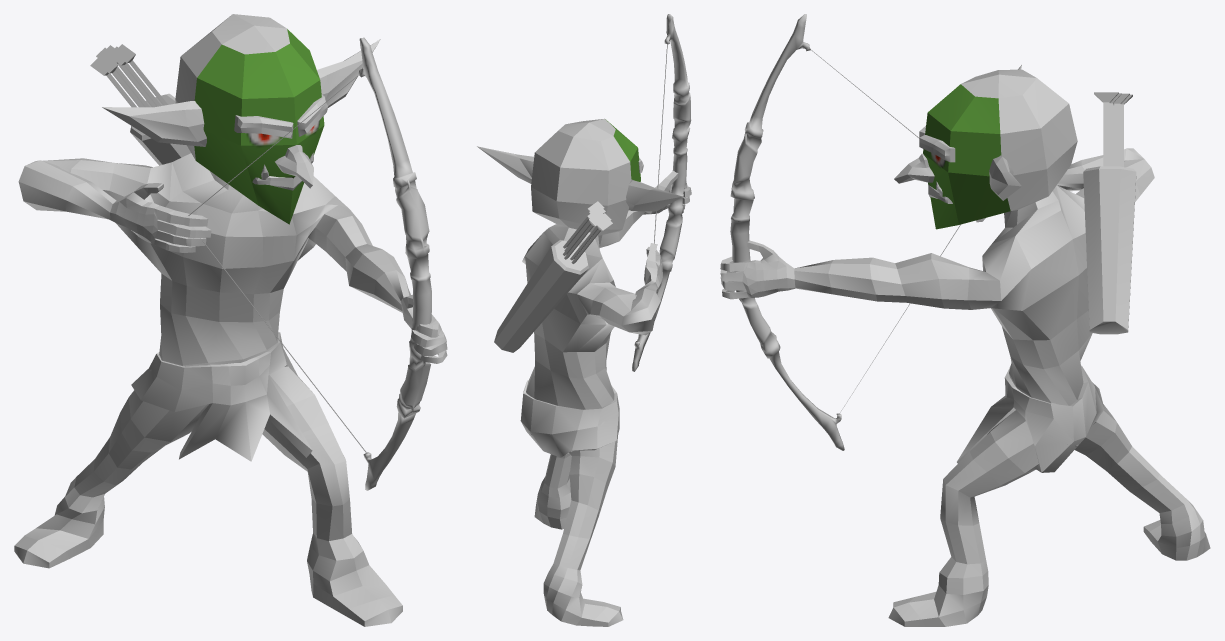
Rendered from GoblinArcher.FBX.
3 views of the same model, side by side, from view 1: azimuth 30°, elevation 25°; view 2: azimuth 150°, elevation 25°; view 3: azimuth 270°, elevation 25° (orthographic). The views are drawn at different scales.
Visible parts, largest first — view 1: pPlane170; view 2: pPlane170; view 3: pPlane170.
Part boxes in pixels (left/top/right/bottom): pPlane170: left=14, top=14, right=447, bottom=626; pPlane170: left=477, top=14, right=691, bottom=626; pPlane170: left=720, top=14, right=1210, bottom=626.
Size of the model in its own units: 127 by 259 by 201.
